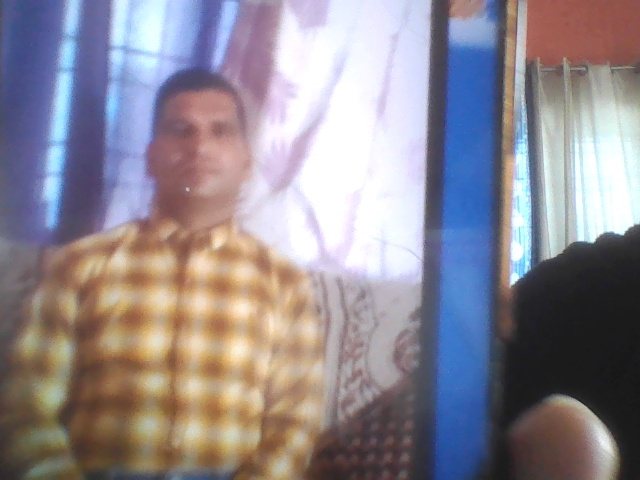fake: (143, 48, 260, 214)
